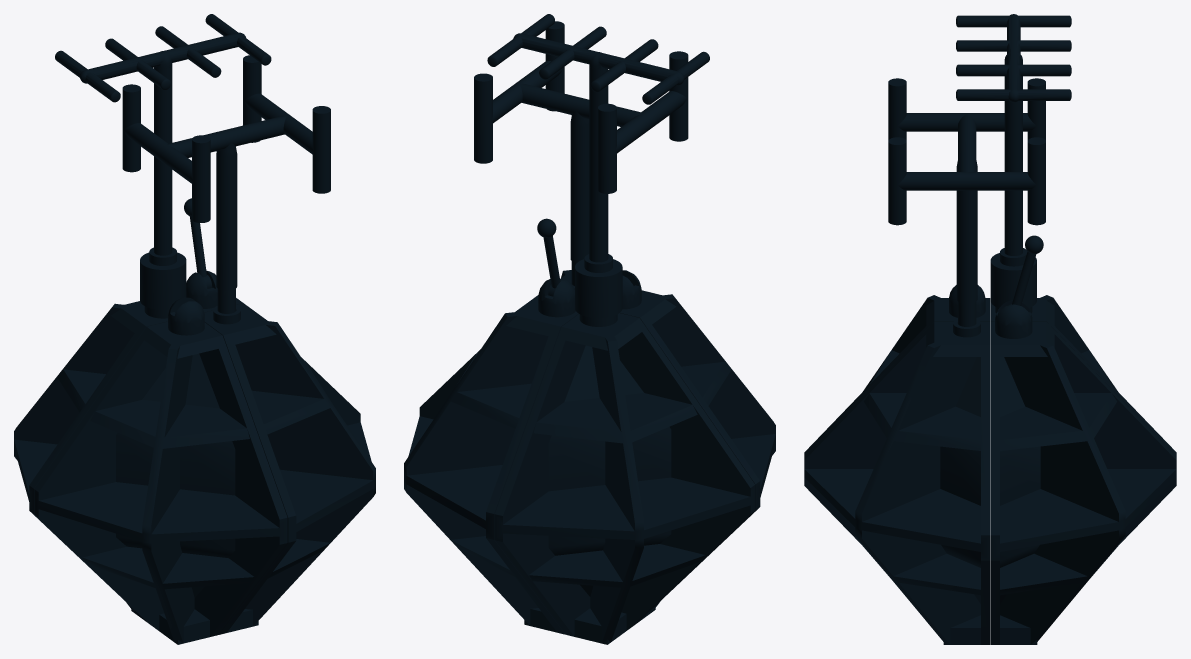
File: Mine.dae
3 renders of one model, left to right at view 1: azimuth 30°, elevation 25°; view 2: azimuth 150°, elevation 25°; view 3: azimuth 270°, elevation 25°, orthographic. The views are drawn at different scales.
Visible parts, largest first — view 1: Inner-Node-Mine_dot_io-1, Inner-Node-Mine_dot_io-0, Inner-Node-Mine_dot_io-4, Inner-Node-Mine_dot_io-5, Inner-Node-Mine_dot_io-3, Inner-Node-Mine_dot_io-7, Inner-Node-11-4592c01_dot_dat-0, Inner-Node-11-4592c01_dot_dat-1; view 2: Inner-Node-Mine_dot_io-3, Inner-Node-Mine_dot_io-2, Inner-Node-Mine_dot_io-4, Inner-Node-Mine_dot_io-5, Inner-Node-Mine_dot_io-1, Inner-Node-11-4592c01_dot_dat-0, Inner-Node-11-4592c01_dot_dat-1, Inner-Node-Mine_dot_io-7; view 3: Inner-Node-Mine_dot_io-0, Inner-Node-Mine_dot_io-2, Inner-Node-Mine_dot_io-4, Inner-Node-Mine_dot_io-5, Inner-Node-Mine_dot_io-1, Inner-Node-Mine_dot_io-3, Inner-Node-11-4592c01_dot_dat-0, Inner-Node-11-4592c01_dot_dat-1.
Part boxes in pixels (x1=…): Inner-Node-Mine_dot_io-1: x1=34, y1=321, x2=287, y2=644; Inner-Node-Mine_dot_io-0: x1=204, y1=303, x2=375, y2=634; Inner-Node-Mine_dot_io-4: x1=122, y1=55, x2=330, y2=313; Inner-Node-Mine_dot_io-5: x1=55, y1=14, x2=271, y2=318; Inner-Node-Mine_dot_io-3: x1=14, y1=301, x2=167, y2=626; Inner-Node-Mine_dot_io-7: x1=168, y1=297, x2=204, y2=335; Inner-Node-11-4592c01_dot_dat-0: x1=186, y1=270, x2=217, y2=308; Inner-Node-11-4592c01_dot_dat-1: x1=184, y1=198, x2=212, y2=288; Inner-Node-Mine_dot_io-3: x1=494, y1=313, x2=755, y2=644; Inner-Node-Mine_dot_io-2: x1=404, y1=295, x2=578, y2=634; Inner-Node-Mine_dot_io-4: x1=474, y1=21, x2=688, y2=285; Inner-Node-Mine_dot_io-5: x1=487, y1=14, x2=709, y2=326; Inner-Node-Mine_dot_io-1: x1=620, y1=290, x2=775, y2=626; Inner-Node-11-4592c01_dot_dat-0: x1=538, y1=279, x2=575, y2=317; Inner-Node-11-4592c01_dot_dat-1: x1=537, y1=218, x2=560, y2=296; Inner-Node-Mine_dot_io-7: x1=622, y1=270, x2=641, y2=309; Inner-Node-Mine_dot_io-0: x1=804, y1=318, x2=990, y2=644; Inner-Node-Mine_dot_io-2: x1=990, y1=321, x2=1176, y2=644; Inner-Node-Mine_dot_io-4: x1=888, y1=78, x2=1045, y2=326; Inner-Node-Mine_dot_io-5: x1=956, y1=14, x2=1071, y2=313; Inner-Node-Mine_dot_io-1: x1=804, y1=295, x2=990, y2=456; Inner-Node-Mine_dot_io-3: x1=990, y1=295, x2=1176, y2=456; Inner-Node-11-4592c01_dot_dat-0: x1=995, y1=300, x2=1032, y2=338; Inner-Node-11-4592c01_dot_dat-1: x1=1008, y1=235, x2=1043, y2=305.
Size of the model in its own units: 160 by 267 by 160.
